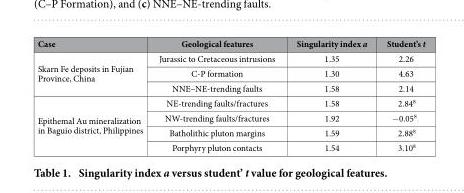table: (36, 36, 424, 153)
table column: (150, 36, 285, 153), (36, 36, 150, 153), (285, 36, 376, 153), (376, 36, 424, 153)
table column header: (36, 36, 424, 50)
table row: (36, 50, 424, 65), (36, 65, 424, 80), (36, 80, 424, 95), (36, 95, 424, 110), (36, 124, 424, 139), (36, 36, 424, 50), (36, 110, 424, 124), (36, 139, 424, 153)
table spanning cell: (36, 95, 150, 153), (36, 50, 150, 95)
